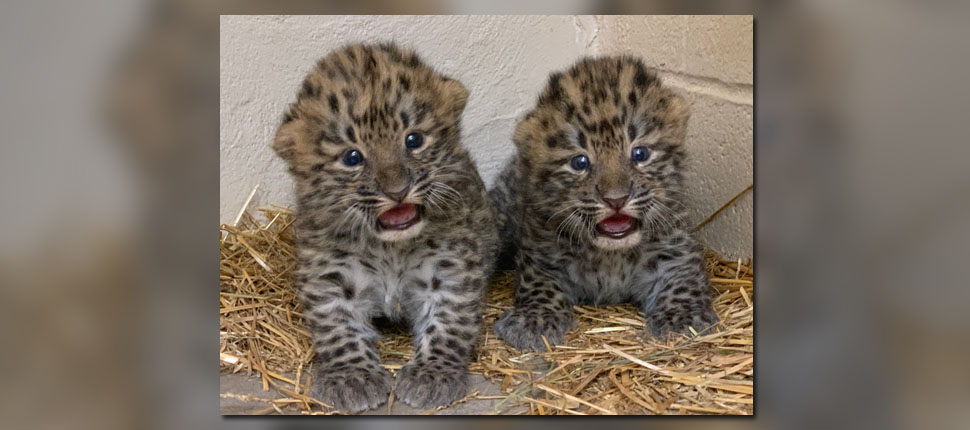amur_leopard: (264, 27, 495, 346), (511, 30, 717, 346)
